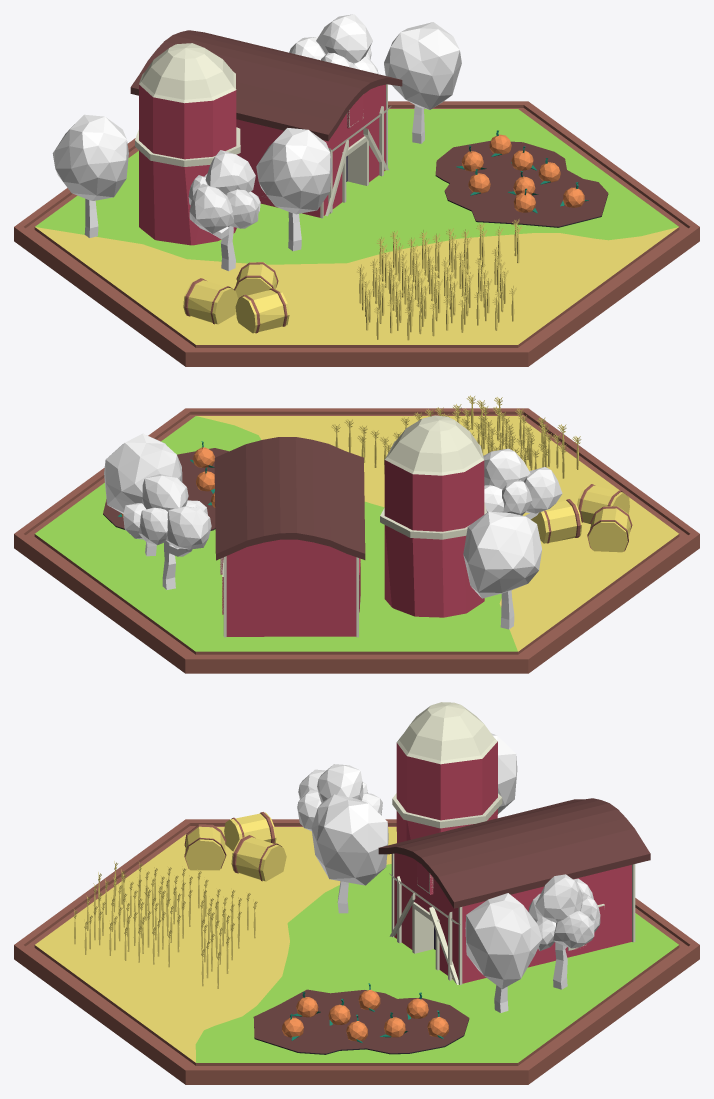
File: Hexagon_Farm.glb
3 views of the same model, one above another, from view 1: azimuth 30°, elevation 25°; view 2: azimuth 150°, elevation 25°; view 3: azimuth 270°, elevation 25° (orthographic).
Visible parts, largest first — view 1: Circle, Cube, Cylinder, Plane.089, Tree 5.003, Tree 5.002, Tree 5.001, Tree 6.005, Tree 6.001, Cylinder.002, Cylinder.001, Cylinder.003; view 2: Circle, Cube, Cylinder, Tree 5.002, Tree 6.001, Tree 6.005, Tree 5.001, Cylinder.002, Cylinder.003, Plane.089, Cylinder.001; view 3: Circle, Cube, Cylinder, Plane.089, Tree 5.003, Tree 5.001, Tree 6.001, Tree 6.005, Cylinder.003, Cylinder.001, Cylinder.002, Tree 5.002.
Part boxes in pixels (box(x1,y1,x2,y2)): Circle: box(14, 101, 699, 366); Cube: box(130, 30, 402, 218); Cylinder: box(135, 43, 240, 245); Plane.089: box(435, 140, 608, 227); Tree 5.003: box(256, 128, 332, 251); Tree 5.002: box(52, 114, 128, 238); Tree 5.001: box(384, 22, 461, 143); Tree 6.005: box(188, 150, 260, 271); Tree 6.001: box(289, 14, 378, 73); Cylinder.002: box(183, 278, 237, 324); Cylinder.001: box(235, 288, 289, 333); Cylinder.003: box(234, 262, 278, 298); Circle: box(14, 408, 699, 673); Cube: box(214, 437, 365, 637); Cylinder: box(380, 415, 486, 617); Tree 5.002: box(463, 511, 542, 629); Tree 6.001: box(123, 474, 211, 589); Tree 6.005: box(483, 448, 562, 519); Tree 5.001: box(104, 433, 182, 556); Cylinder.002: box(587, 506, 632, 552); Cylinder.003: box(531, 499, 581, 543); Plane.089: box(103, 448, 228, 530); Cylinder.001: box(577, 484, 629, 523); Circle: box(14, 819, 699, 1084); Cube: box(378, 798, 650, 984); Cylinder: box(392, 702, 502, 842); Plane.089: box(253, 989, 469, 1054); Tree 5.003: box(311, 794, 388, 913); Tree 5.001: box(465, 893, 541, 1012); Tree 6.001: box(528, 874, 600, 989); Tree 6.005: box(297, 764, 382, 831); Cylinder.003: box(231, 835, 286, 881); Cylinder.001: box(184, 824, 226, 870); Cylinder.002: box(224, 812, 276, 851); Tree 5.002: box(491, 733, 517, 813).
Size of the model in its own units: 30.17 by 10.73 by 34.84.
2 materials, 1 textured.
